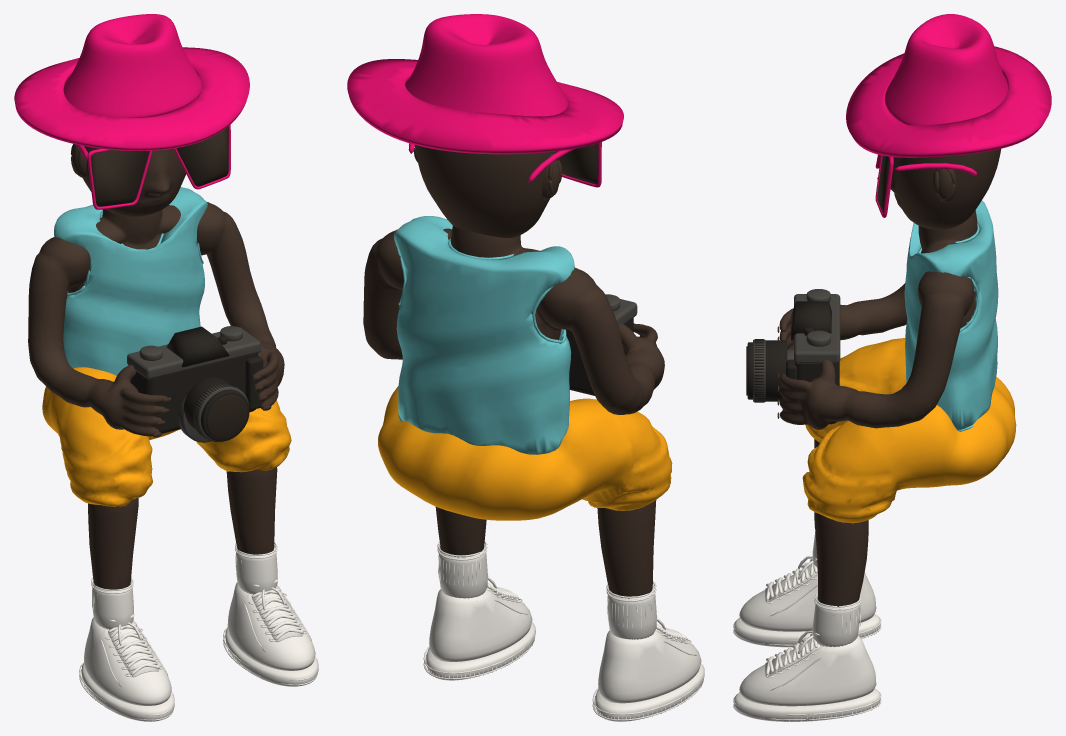
Rendered from sculpture_web.glb.
3 renders of one model, left to right at view 1: azimuth 30°, elevation 25°; view 2: azimuth 150°, elevation 25°; view 3: azimuth 270°, elevation 25°, orthographic. The views are drawn at different scales.
Parts seen in each view (by area): view 1: Web_Peau_brun_peint_V2, Web_Rose_fuchsia_V2, Web_Turquoise_V2, Web_Blanc_casse_V2, Web_Jaune_orange_V2, Web_Boitier_noir_V2, Web_Verres_fumes_V2, Web_Metal_objectif_V2; view 2: Web_Turquoise_V2, Web_Peau_brun_peint_V2, Web_Rose_fuchsia_V2, Web_Jaune_orange_V2, Web_Blanc_casse_V2, Web_Verres_fumes_V2, Web_Boitier_noir_V2, Web_Metal_objectif_V2; view 3: Web_Peau_brun_peint_V2, Web_Rose_fuchsia_V2, Web_Jaune_orange_V2, Web_Blanc_casse_V2, Web_Turquoise_V2, Web_Boitier_noir_V2, Web_Metal_objectif_V2, Web_Verres_fumes_V2.
Boxes of the visible parts, x1=… form: Web_Peau_brun_peint_V2: x1=28, y1=144, x2=284, y2=589; Web_Rose_fuchsia_V2: x1=14, y1=14, x2=249, y2=209; Web_Turquoise_V2: x1=54, y1=187, x2=207, y2=375; Web_Blanc_casse_V2: x1=79, y1=542, x2=318, y2=721; Web_Jaune_orange_V2: x1=42, y1=367, x2=291, y2=506; Web_Boitier_noir_V2: x1=130, y1=192, x2=263, y2=442; Web_Verres_fumes_V2: x1=91, y1=127, x2=247, y2=438; Web_Metal_objectif_V2: x1=127, y1=326, x2=260, y2=442; Web_Turquoise_V2: x1=394, y1=216, x2=574, y2=454; Web_Peau_brun_peint_V2: x1=363, y1=145, x2=664, y2=598; Web_Rose_fuchsia_V2: x1=347, y1=14, x2=623, y2=187; Web_Jaune_orange_V2: x1=378, y1=386, x2=672, y2=520; Web_Blanc_casse_V2: x1=423, y1=540, x2=704, y2=721; Web_Verres_fumes_V2: x1=556, y1=143, x2=598, y2=184; Web_Boitier_noir_V2: x1=566, y1=318, x2=633, y2=395; Web_Metal_objectif_V2: x1=605, y1=294, x2=637, y2=325; Web_Peau_brun_peint_V2: x1=777, y1=149, x2=1000, y2=607; Web_Rose_fuchsia_V2: x1=846, y1=14, x2=1051, y2=217; Web_Jaune_orange_V2: x1=802, y1=338, x2=1016, y2=523; Web_Blanc_casse_V2: x1=733, y1=525, x2=881, y2=721; Web_Turquoise_V2: x1=904, y1=200, x2=998, y2=431; Web_Boitier_noir_V2: x1=747, y1=301, x2=839, y2=424; Web_Metal_objectif_V2: x1=753, y1=289, x2=840, y2=402; Web_Verres_fumes_V2: x1=746, y1=155, x2=889, y2=395.
Bounding box in the file's own units: 0.3953 × 1 × 0.4509.
